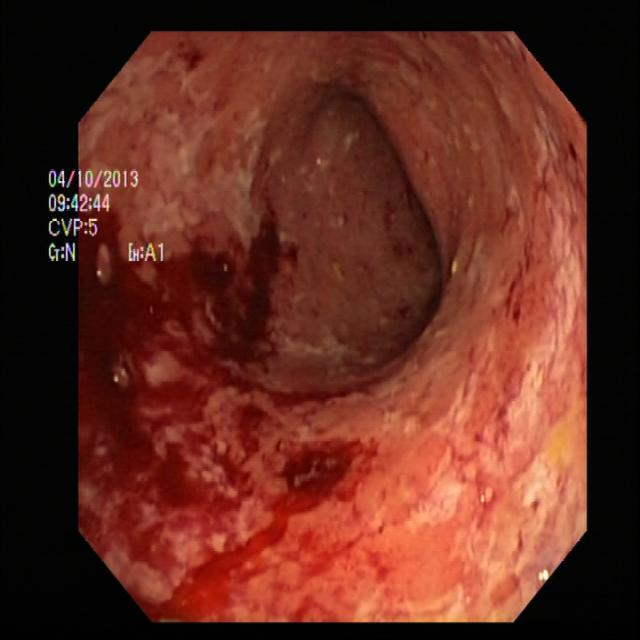ulcerative-colities: (77, 129, 382, 629), (401, 94, 596, 600)
